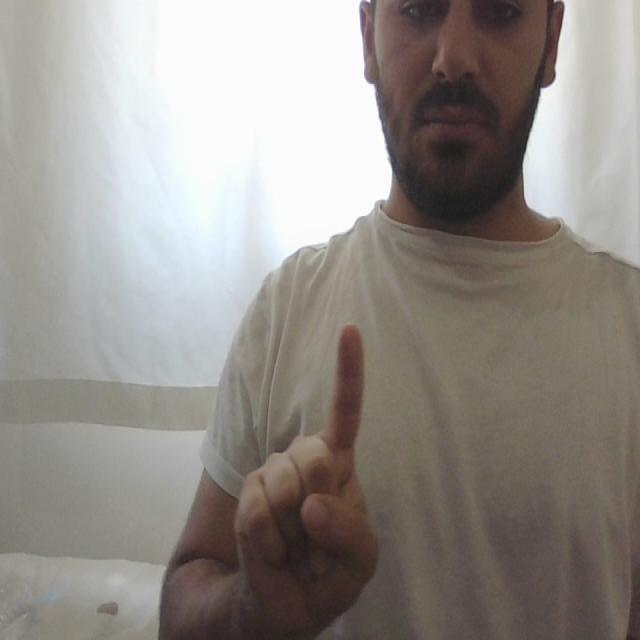Hayir: (213, 287, 383, 640)
